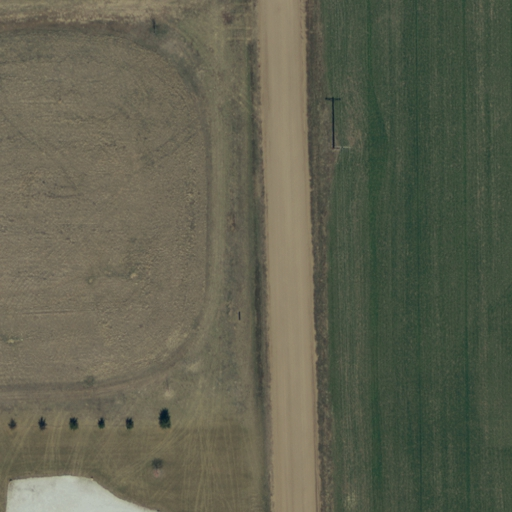DT: (327, 138, 354, 159)
